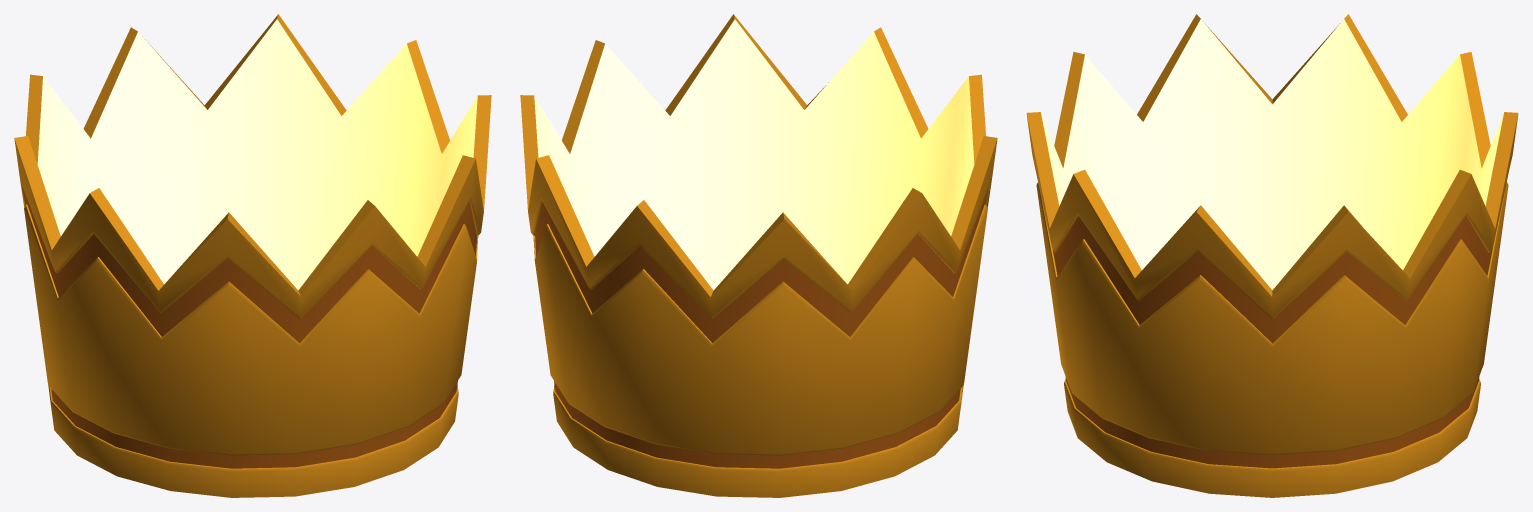
File: crown.glb
The picture shows the model from 3 angles, left to right: view 1: azimuth 30°, elevation 25°; view 2: azimuth 150°, elevation 25°; view 3: azimuth 270°, elevation 25°; orthographic projection.
Visible parts, largest first — view 1: Cylinder_2; view 2: Cylinder_2; view 3: Cylinder_2.
Boxes of the visible parts, <box> form: Cylinder_2: <box>14,14,491,497</box>; Cylinder_2: <box>520,14,997,497</box>; Cylinder_2: <box>1026,14,1518,497</box>.
Size of the model in its own units: 3.08 by 2.17 by 3.24.
